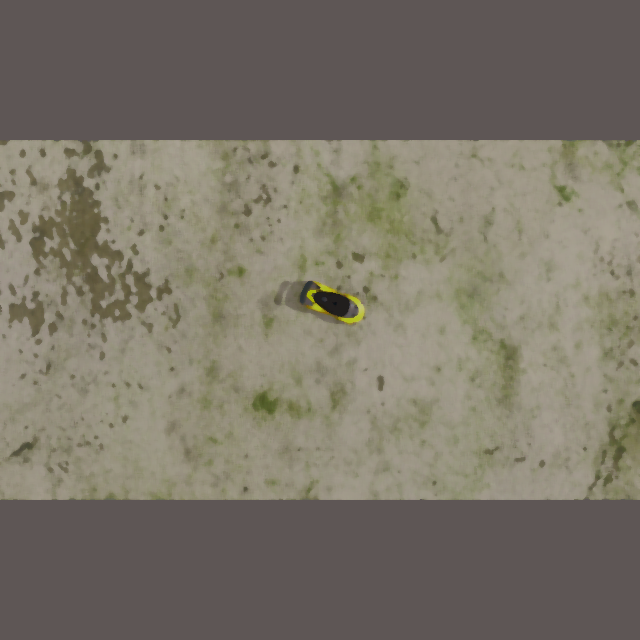car: (295, 276, 369, 330)
